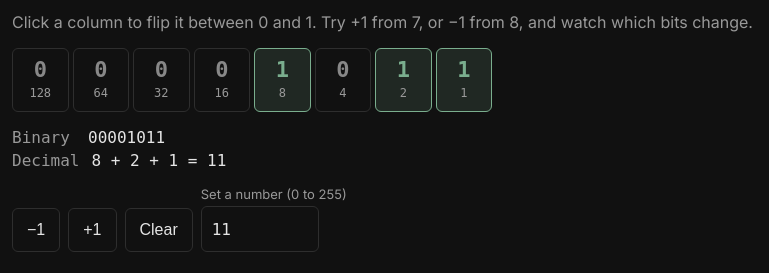
Test: BitToggle › keeps the last valid number when typing goes past 255, and resets the text on blur
Replace the text in the number field labelled "Set a number (0 to 255)" with "300": (260,229) 201,206 -> 319,252
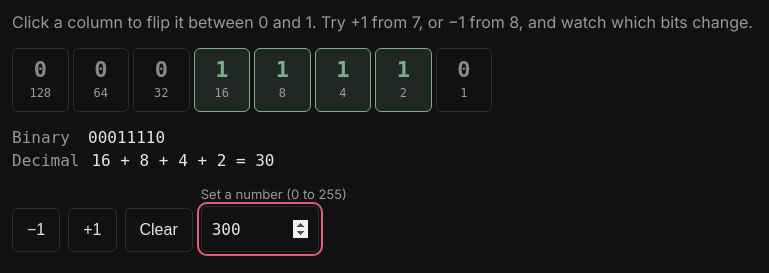
Press Tab
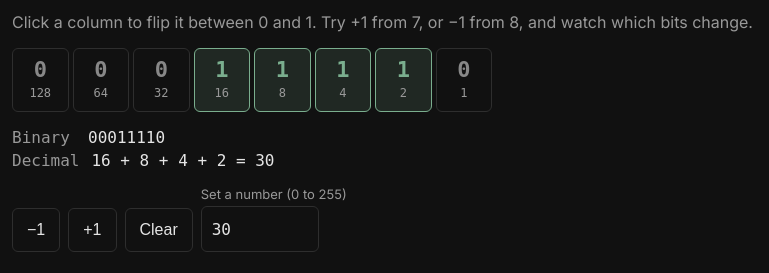
Expected: the number field labelled "Set a number (0 to 255)" holds "30", 201,206 -> 319,252
